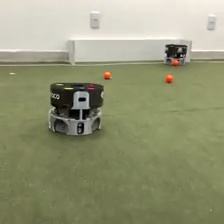ball: (164, 73, 174, 82), (171, 57, 180, 66), (103, 69, 111, 79)
goal: (65, 37, 193, 65)
robot: (46, 78, 106, 136), (163, 42, 188, 66)
